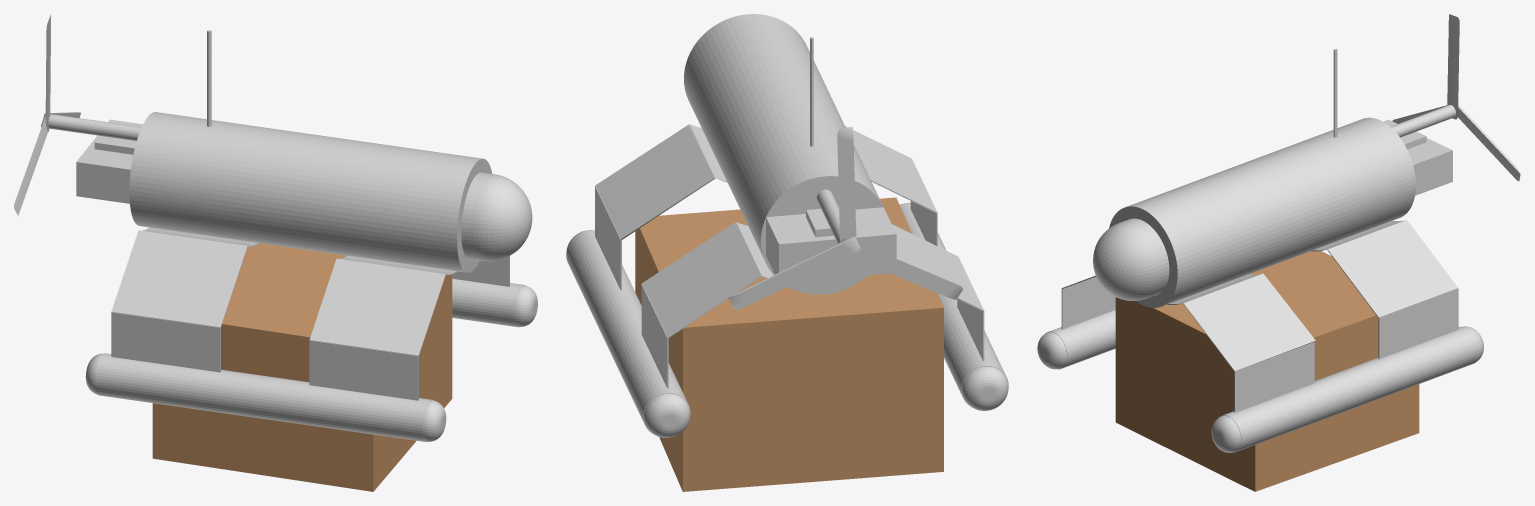
File: drone7.glb
3 renders of one model, left to right at view 1: azimuth 30°, elevation 25°; view 2: azimuth 150°, elevation 25°; view 3: azimuth 270°, elevation 25°, orthographic. The views are drawn at different scales.
Parts seen in each view (by area): view 1: uploads_files_94123_Military_Frankendrone, Cube; view 2: uploads_files_94123_Military_Frankendrone, Cube; view 3: uploads_files_94123_Military_Frankendrone, Cube.
Part boxes in pixels (box(x1,y1,x2,y2)): uploads_files_94123_Military_Frankendrone: box(14, 14, 537, 441); Cube: box(152, 243, 452, 491); uploads_files_94123_Military_Frankendrone: box(566, 14, 1008, 437); Cube: box(635, 197, 943, 491); uploads_files_94123_Military_Frankendrone: box(1037, 14, 1520, 452); Cube: box(1115, 251, 1419, 491).
Bounding box in the file's own units: 11.47 × 9.68 × 12.01.
